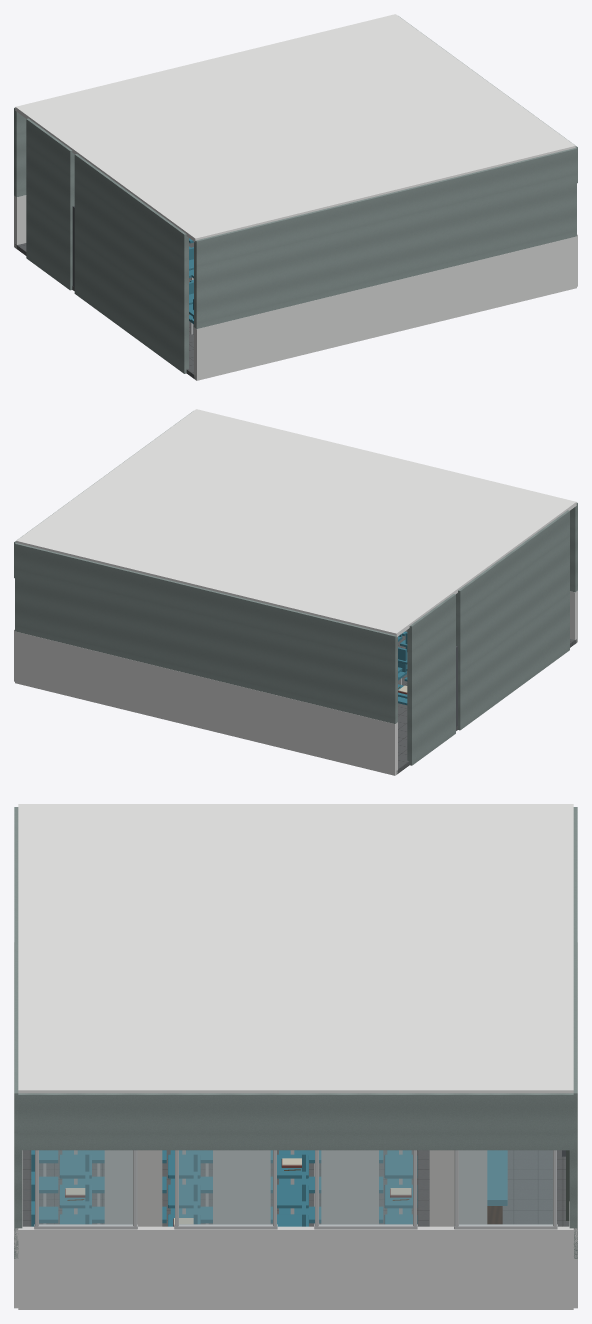
File: classroom.glb
The picture shows the model from 3 angles, top to bottom: view 1: azimuth 30°, elevation 25°; view 2: azimuth 150°, elevation 25°; view 3: azimuth 270°, elevation 25°; orthographic projection. The views are drawn at different scales.
Parts seen in each view (by area): view 1: Ceiling_Ceiling_White, Cutaway_Wall_White, Cutaway_Wall_LowerGray; view 2: Ceiling_Ceiling_White, Cutaway_Wall_White, Cutaway_Wall_LowerGray, Static_Floor_Gray, Static_Student_Desk_Blue; view 3: Ceiling_Ceiling_White, Static_Wall_LowerGray, Static_Wall_White, Cutaway_Window_Glass, Cutaway_Curtain_Silver, Static_Student_Desk_Blue, Static_Floor_Gray, Cutaway_Wall_White, Cutaway_Metal_Gray, Cutaway_Wall_LowerGray, Static_Metal_Gray.
Boxes of the visible parts, bbox=[...] form: Ceiling_Ceiling_White: bbox=[15, 14, 575, 241]; Cutaway_Wall_White: bbox=[14, 107, 576, 373]; Cutaway_Wall_LowerGray: bbox=[14, 195, 576, 380]; Ceiling_Ceiling_White: bbox=[16, 409, 576, 636]; Cutaway_Wall_White: bbox=[15, 502, 577, 765]; Cutaway_Wall_LowerGray: bbox=[15, 590, 577, 775]; Static_Floor_Gray: bbox=[396, 635, 576, 774]; Static_Student_Desk_Blue: bbox=[398, 631, 407, 705]; Ceiling_Ceiling_White: bbox=[18, 804, 573, 1093]; Static_Wall_LowerGray: bbox=[18, 1226, 573, 1309]; Static_Wall_White: bbox=[18, 1093, 573, 1150]; Cutaway_Window_Glass: bbox=[39, 1150, 552, 1224]; Cutaway_Curtain_Silver: bbox=[104, 1150, 487, 1226]; Static_Student_Desk_Blue: bbox=[31, 1150, 507, 1226]; Static_Floor_Gray: bbox=[22, 1150, 569, 1226]; Cutaway_Wall_White: bbox=[14, 807, 577, 1258]; Cutaway_Metal_Gray: bbox=[34, 1150, 557, 1229]; Cutaway_Wall_LowerGray: bbox=[14, 942, 577, 1308]; Static_Metal_Gray: bbox=[43, 1150, 402, 1226].
Size of the model in its own units: 10.12 by 3.55 by 8.33.
Materials: 17 (3 with a texture image).
